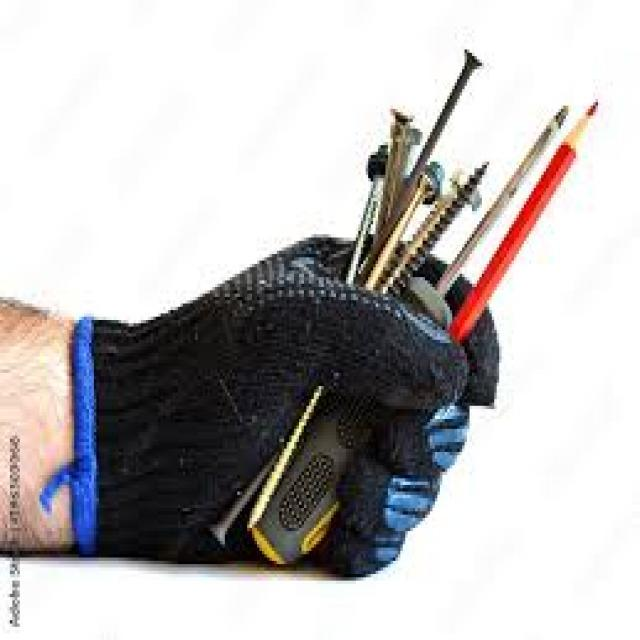screwdriver: (246, 97, 570, 566)
